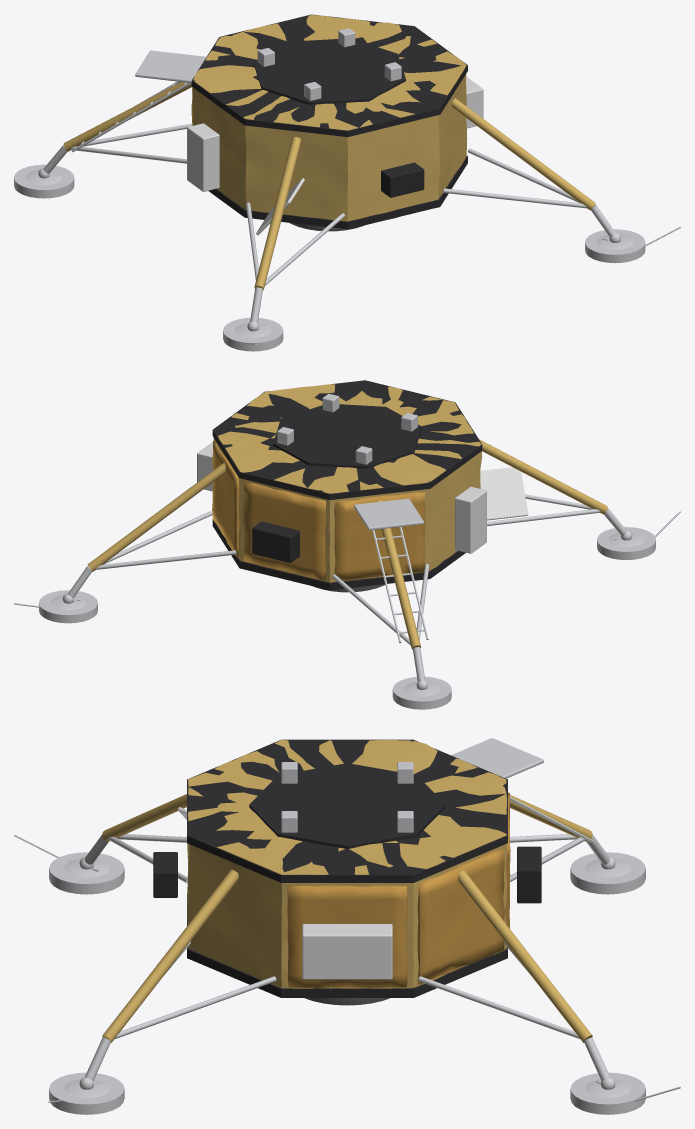
The model's file is apollo-lm-descent.glb.
3 views of the same model, one above another, from view 1: azimuth 30°, elevation 25°; view 2: azimuth 150°, elevation 25°; view 3: azimuth 270°, elevation 25° (orthographic). The views are drawn at different scales.
Visible parts, largest first — view 1: descent_core, descent_band_top, blast_shield, descent_water_tank, descent_band_bottom, leg_3_primary, porch, leg_2_primary, leg_3_footpad, leg_2_footpad, leg_1_footpad, descent_antenna_box (+6 smaller); view 2: descent_core, descent_band_top, blast_shield, descent_blanket_3, descent_blanket_2, descent_blanket_1, mesa_door, descent_water_tank, descent_band_bottom, leg_0_primary, descent_battery, porch (+9 smaller); view 3: descent_core, descent_band_top, blast_shield, descent_blanket_1, descent_blanket_0, descent_pallet, descent_band_bottom, leg_3_primary, leg_0_primary, porch, leg_1_footpad, leg_2_footpad (+12 smaller).
Part boxes in pixels (x1,y1,x2,y2): descent_core: (192, 14, 467, 229); descent_band_top: (191, 14, 467, 136); blast_shield: (253, 39, 405, 104); descent_water_tank: (187, 123, 219, 191); descent_band_bottom: (209, 155, 467, 229); leg_3_primary: (451, 98, 595, 210); porch: (135, 50, 206, 82); leg_2_primary: (254, 137, 301, 289); leg_3_footpad: (585, 229, 645, 263); leg_2_footpad: (223, 318, 283, 351); leg_1_footpad: (14, 164, 74, 198); descent_antenna_box: (381, 162, 424, 197); descent_core: (213, 384, 482, 582); descent_band_top: (212, 380, 482, 499); blast_shield: (273, 404, 421, 468); descent_blanket_3: (334, 492, 425, 580); descent_blanket_2: (243, 481, 325, 580); descent_blanket_1: (212, 441, 239, 557); mesa_door: (480, 467, 528, 520); descent_water_tank: (455, 486, 486, 553); descent_band_bottom: (212, 519, 465, 590); leg_0_primary: (87, 462, 225, 571); descent_battery: (252, 521, 299, 562); porch: (354, 498, 424, 530); descent_core: (187, 740, 506, 988); descent_band_top: (187, 739, 507, 882); blast_shield: (249, 763, 445, 848); descent_blanket_1: (417, 849, 504, 984); descent_blanket_0: (287, 885, 407, 988); descent_pallet: (302, 924, 392, 979); descent_band_bottom: (187, 893, 507, 997); leg_3_primary: (102, 869, 238, 1042); leg_0_primary: (457, 870, 592, 1042); porch: (451, 738, 543, 778); leg_1_footpad: (570, 852, 645, 894); leg_2_footpad: (49, 852, 124, 894).
Size of the model in its own units: 9.65 by 3.44 by 10.18.
